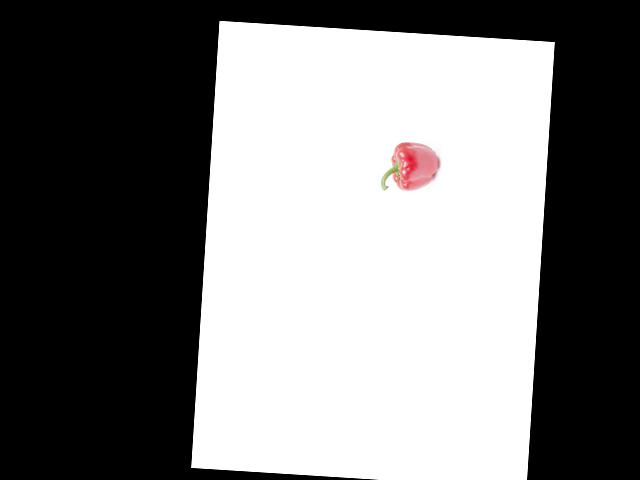bell_pepper: (379, 136, 441, 196)
